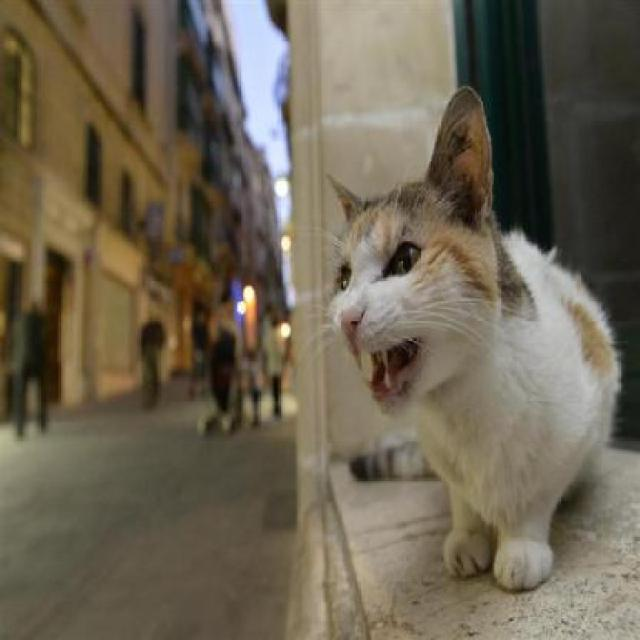cat: (329, 79, 622, 592)
